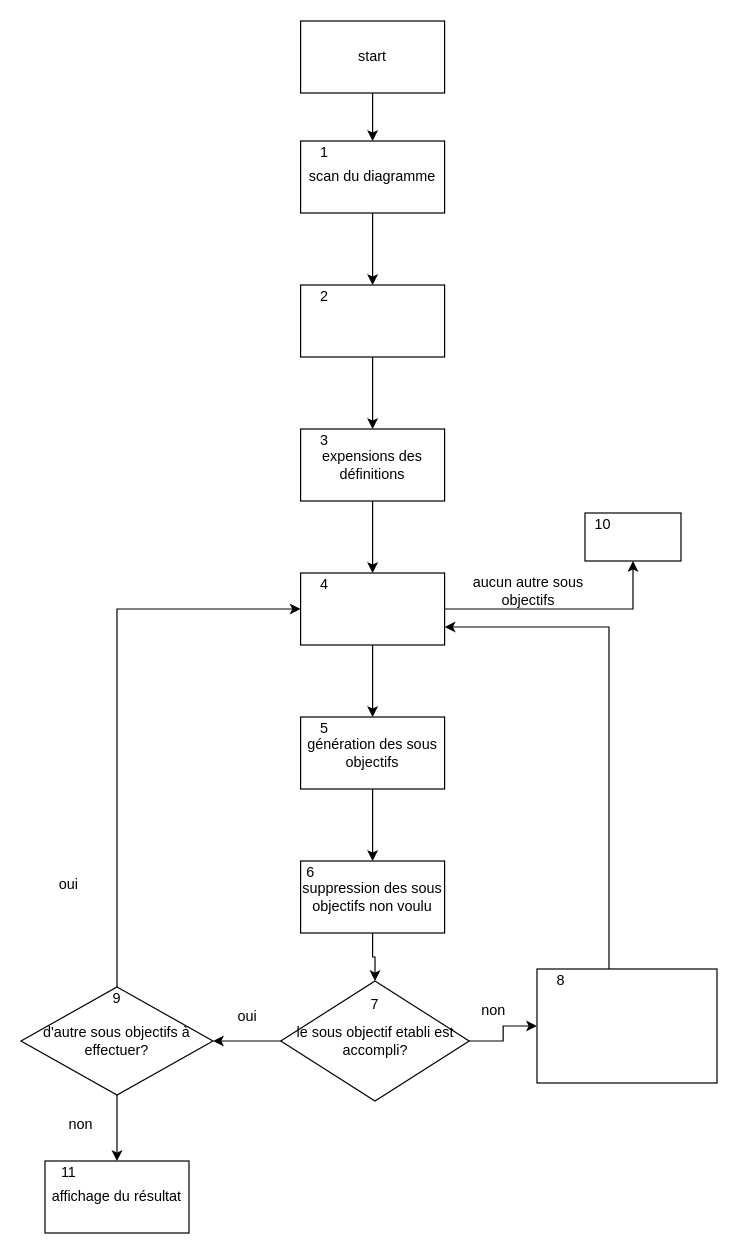
The diagram is 738 pixels wide and 1254 high, and some of its shapes have lost their labels. The box of each missing label's shape, as (x1, y1, x2, y2) in pixels:
choix des sous objectifs: (299, 572, 445, 645)
mise en place des conditions initial: (299, 284, 445, 357)
rajout de sous objectifs si il en existe au processus de résolution de problème: (536, 968, 717, 1083)
échec: (584, 512, 681, 561)
